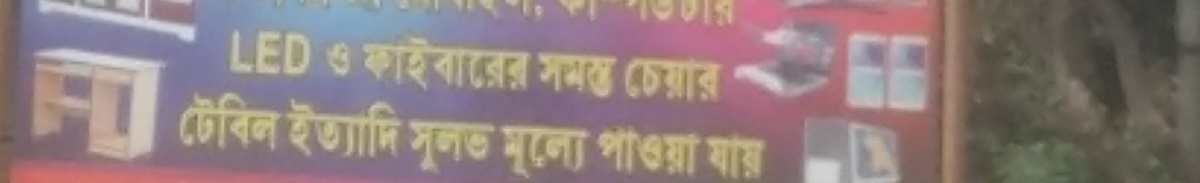text: (289, 92, 304, 169), (305, 92, 320, 169), (321, 92, 336, 169), (337, 92, 352, 169), (353, 92, 368, 169), (369, 92, 384, 169), (385, 92, 400, 169), (193, 86, 208, 158), (209, 86, 224, 158), (225, 86, 240, 158), (241, 86, 256, 158), (257, 86, 272, 158), (178, 86, 192, 158), (417, 115, 432, 182), (433, 115, 448, 182), (449, 115, 464, 182), (465, 115, 480, 182), (481, 115, 496, 182), (369, 30, 384, 97), (385, 30, 400, 97), (401, 30, 416, 97), (417, 30, 432, 97), (433, 30, 448, 97), (449, 30, 464, 97), (465, 30, 480, 97), (481, 30, 496, 97), (497, 30, 512, 97), (513, 30, 528, 97), (497, 119, 512, 182), (513, 119, 528, 182), (529, 119, 544, 182), (545, 119, 560, 182), (561, 119, 576, 182), (577, 119, 592, 182), (625, 52, 640, 112), (641, 52, 656, 112), (657, 52, 672, 112), (673, 52, 688, 112), (689, 52, 704, 112), (705, 52, 720, 112), (609, 122, 624, 182), (625, 122, 640, 182), (641, 122, 656, 182), (657, 122, 672, 182), (673, 122, 688, 182), (689, 122, 704, 182), (241, 24, 256, 83), (257, 24, 272, 83), (273, 24, 288, 83), (289, 24, 304, 83), (594, 122, 608, 182), (545, 50, 560, 104), (561, 50, 576, 104), (577, 50, 592, 104), (593, 50, 608, 104), (273, 86, 284, 158), (337, 36, 353, 84), (228, 24, 240, 83), (705, 133, 720, 180), (721, 133, 736, 180), (737, 133, 752, 180), (753, 133, 768, 180), (609, 50, 622, 104), (322, 36, 336, 84), (406, 115, 416, 182), (305, 24, 316, 83), (359, 30, 368, 97), (721, 52, 729, 112), (625, 2, 640, 34), (641, 2, 656, 34), (657, 2, 672, 34), (673, 2, 688, 34), (689, 2, 704, 34), (705, 2, 720, 34), (721, 2, 736, 34), (529, 30, 536, 97), (401, 92, 407, 169), (536, 50, 544, 104), (593, 1, 609, 28), (561, 1, 576, 28), (577, 1, 592, 28), (449, 1, 464, 23), (465, 1, 480, 23), (481, 1, 496, 23), (497, 1, 512, 23), (513, 1, 528, 23), (401, 1, 416, 19), (417, 1, 432, 19), (533, 2, 544, 26), (737, 2, 744, 34), (552, 1, 560, 28), (273, 2, 288, 15), (289, 2, 304, 15), (305, 2, 320, 15), (321, 2, 336, 15), (337, 2, 352, 15), (353, 2, 368, 15), (369, 2, 384, 15), (545, 2, 553, 26), (433, 1, 443, 19), (497, 115, 499, 182), (393, 1, 400, 19), (702, 133, 704, 180), (529, 1, 533, 23), (287, 92, 288, 169), (622, 2, 624, 34), (623, 52, 624, 112), (769, 133, 770, 180), (447, 1, 448, 23), (271, 2, 272, 15), (385, 2, 386, 15)
